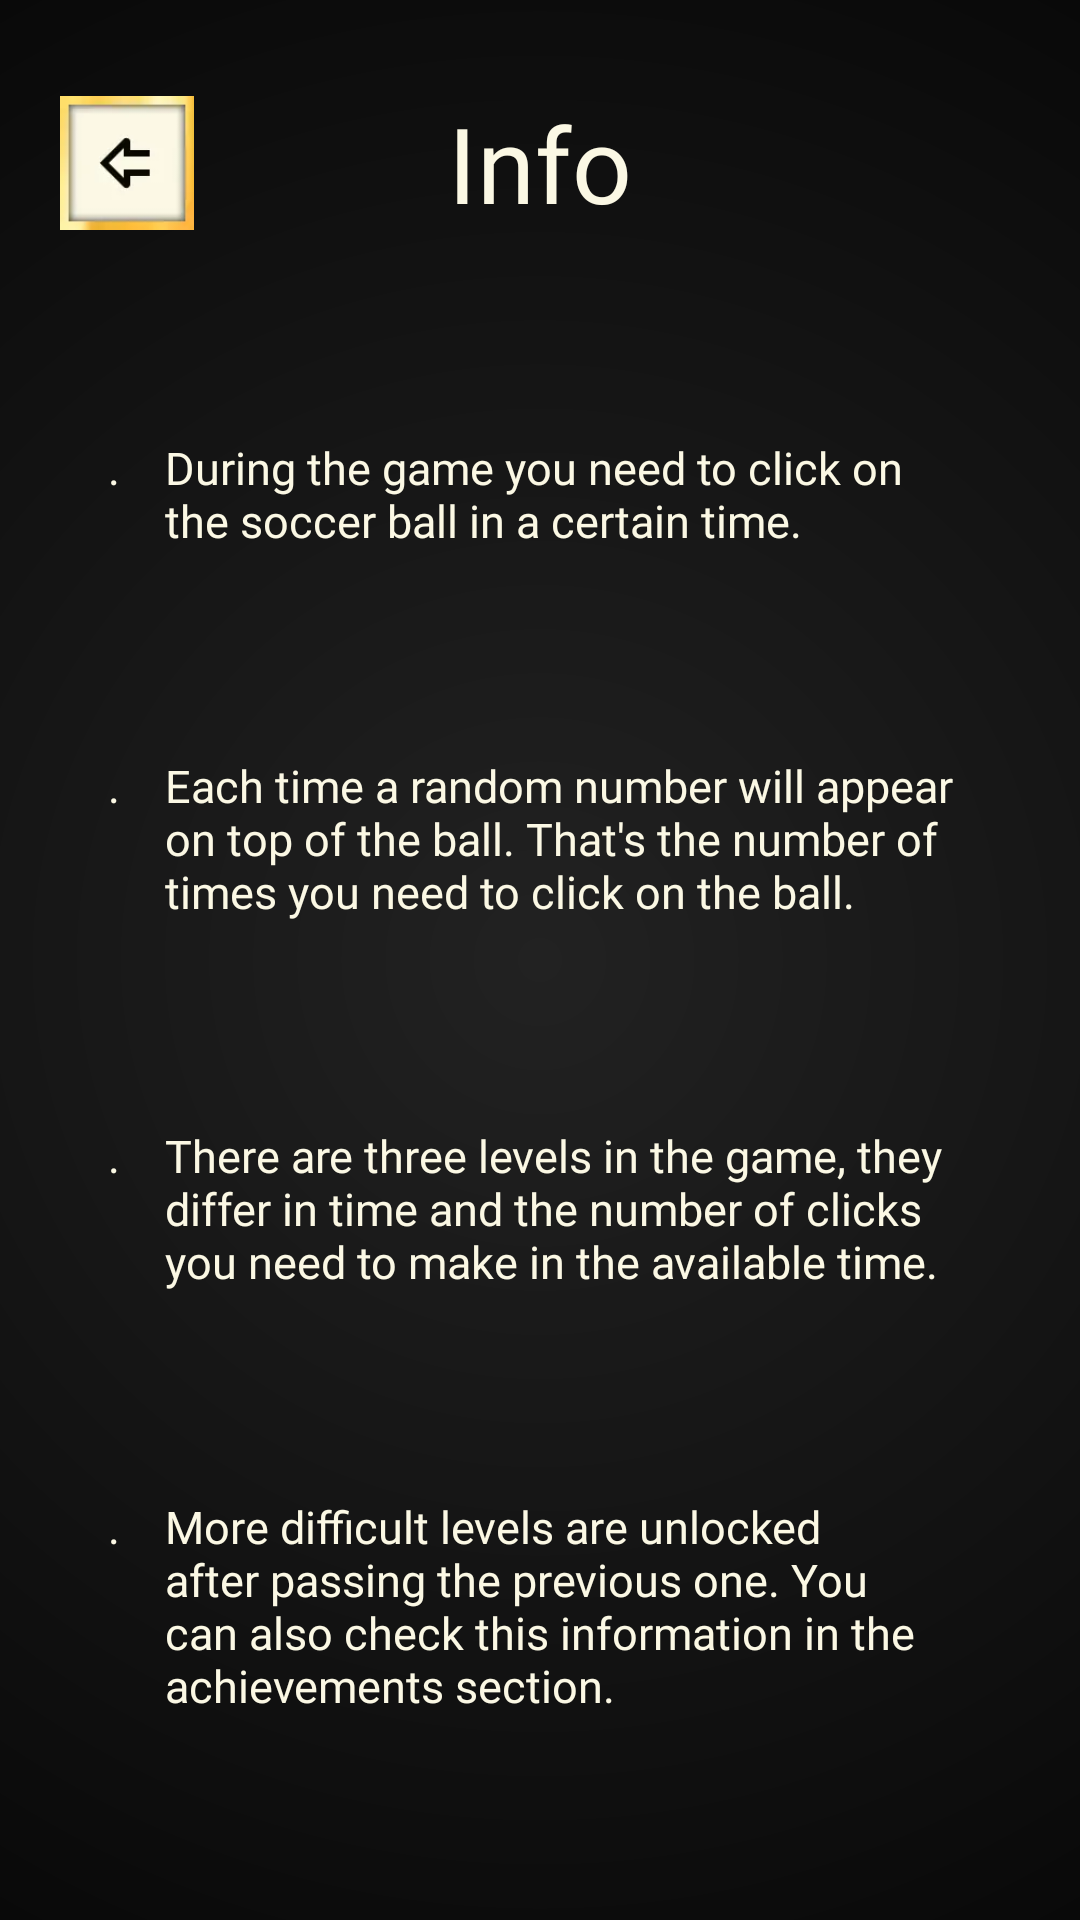

Screen size 1080 × 1920. Icon name, then its center in pixels as (x,y):
back: (127,163)
